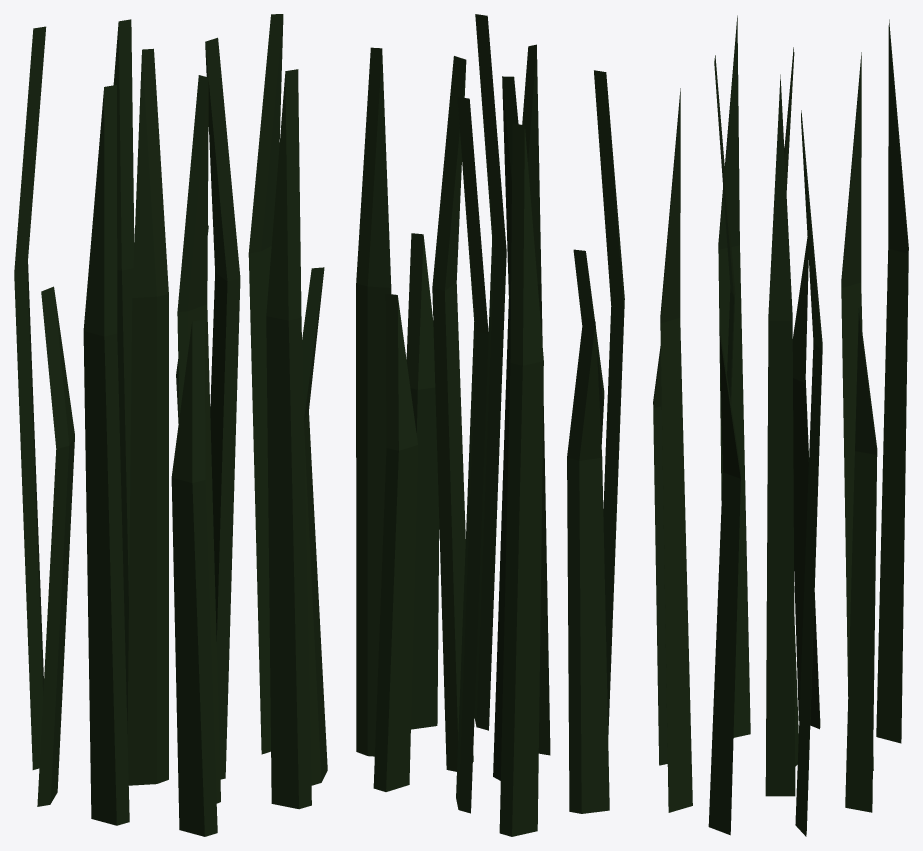
The model's file is grass.glb.
3 views of the same model, side by side, from view 1: azimuth 30°, elevation 25°; view 2: azimuth 150°, elevation 25°; view 3: azimuth 270°, elevation 25° (orthographic). The views are drawn at different scales.
Parts seen in each view (by area): view 1: Grass; view 2: Grass; view 3: Grass.
Part boxes in pixels (left/top/right/bottom): Grass: left=14, top=14, right=327, bottom=836; Grass: left=356, top=14, right=624, bottom=836; Grass: left=653, top=15, right=908, bottom=836.
Bounding box in the file's own units: 37.38 × 101 × 32.72.
